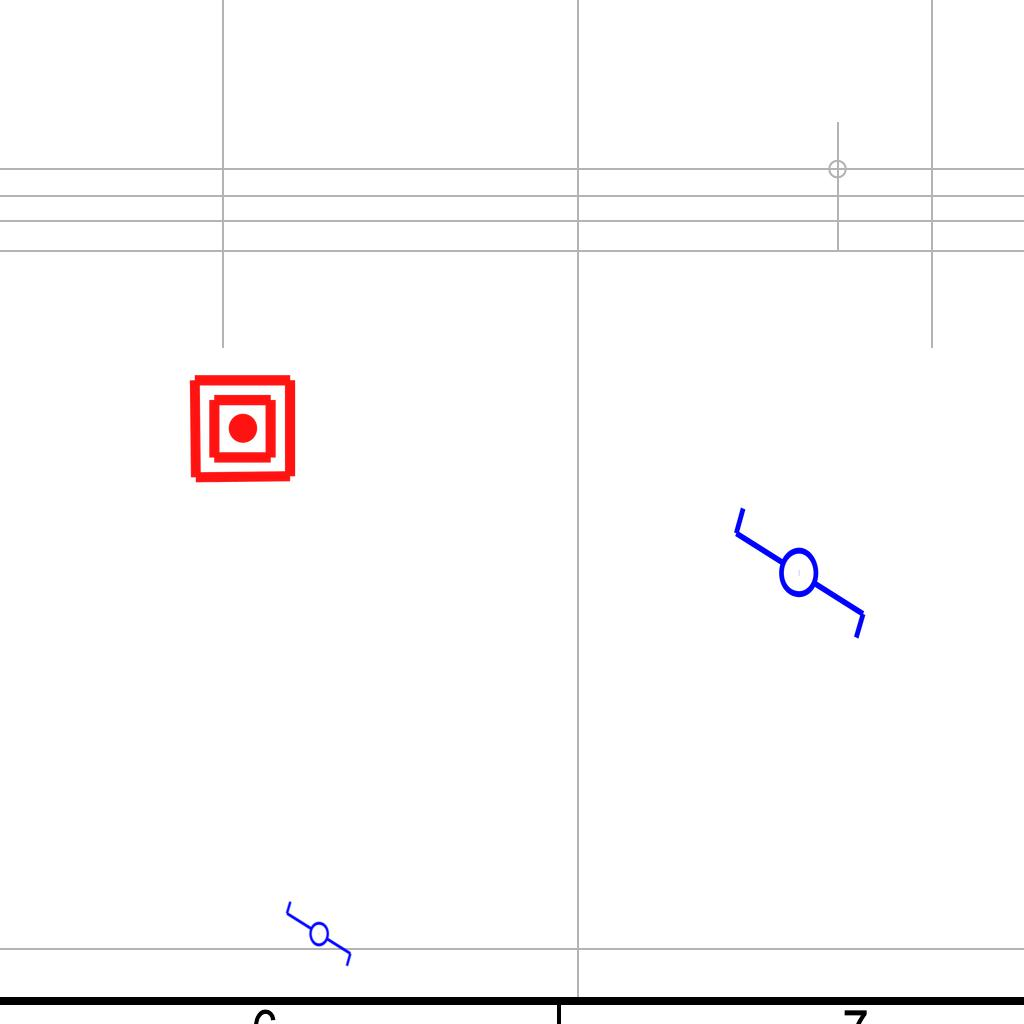NAM-Nichtautomatischer_Melder: (186, 372, 299, 485)
Wechselschalter: (729, 486, 873, 643), (282, 899, 354, 977)
